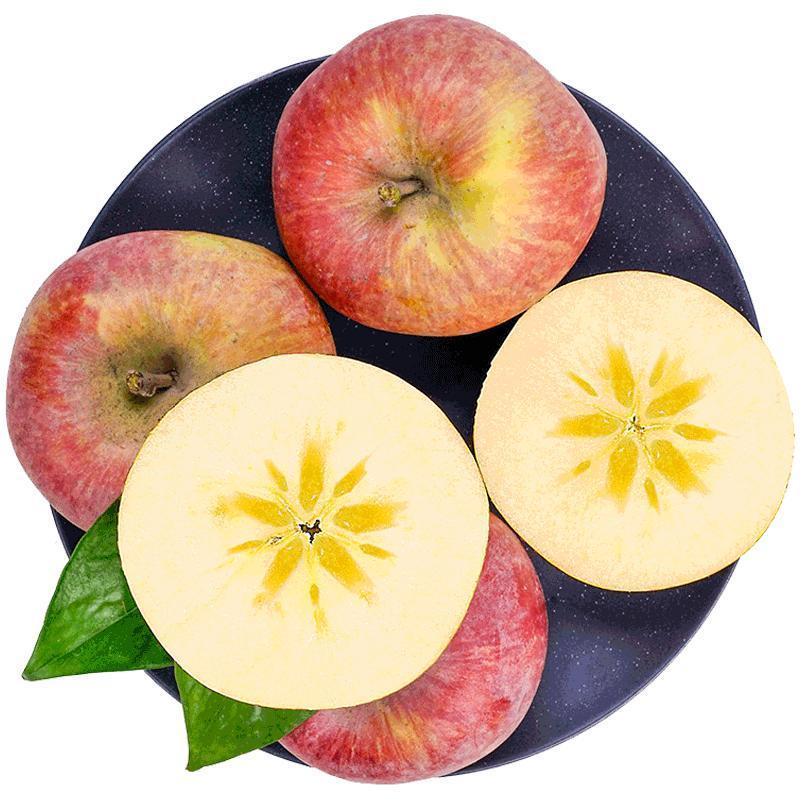apple: (270, 15, 612, 337), (5, 230, 345, 529)
